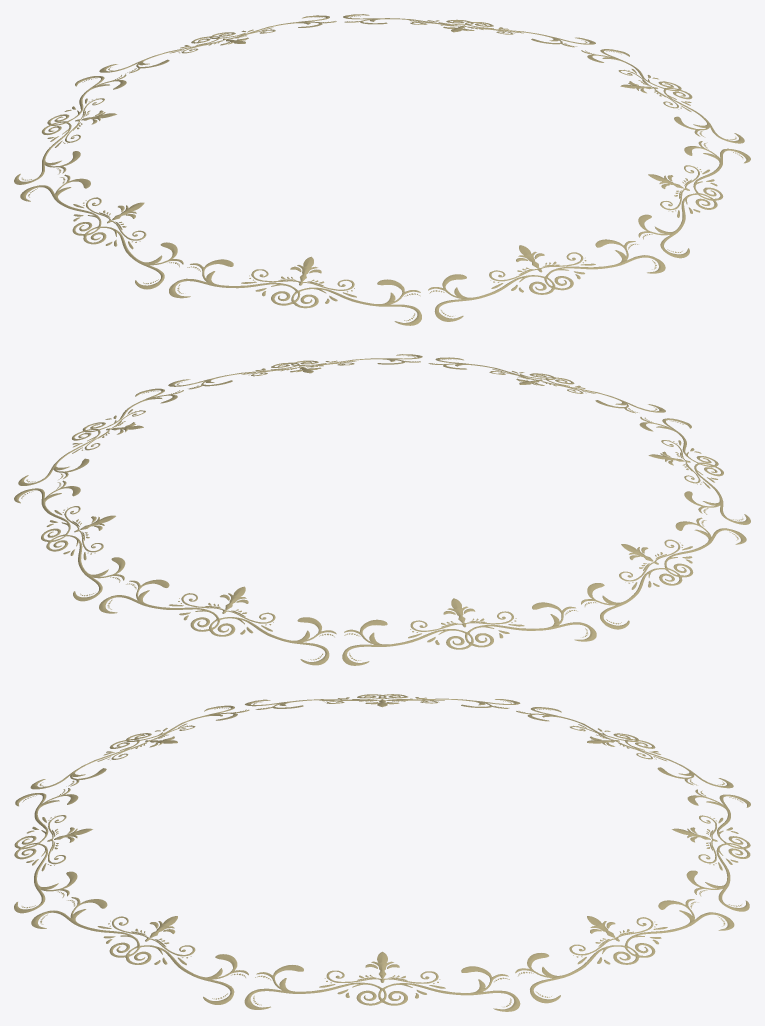
File: BottomOrnament.glb
3 views of the same model, one above another, from view 1: azimuth 30°, elevation 25°; view 2: azimuth 150°, elevation 25°; view 3: azimuth 270°, elevation 25° (orthographic). The views are drawn at different scales.
Visible parts, largest first — view 1: BottomOrnament; view 2: BottomOrnament; view 3: BottomOrnament.
Part boxes in pixels (left/top/right/bottom): BottomOrnament: left=14, top=14, right=750, bottom=325; BottomOrnament: left=14, top=354, right=750, bottom=665; BottomOrnament: left=14, top=694, right=750, bottom=1011.
Bounding box in the file's own units: 11.1 × 0.4565 × 11.1.
